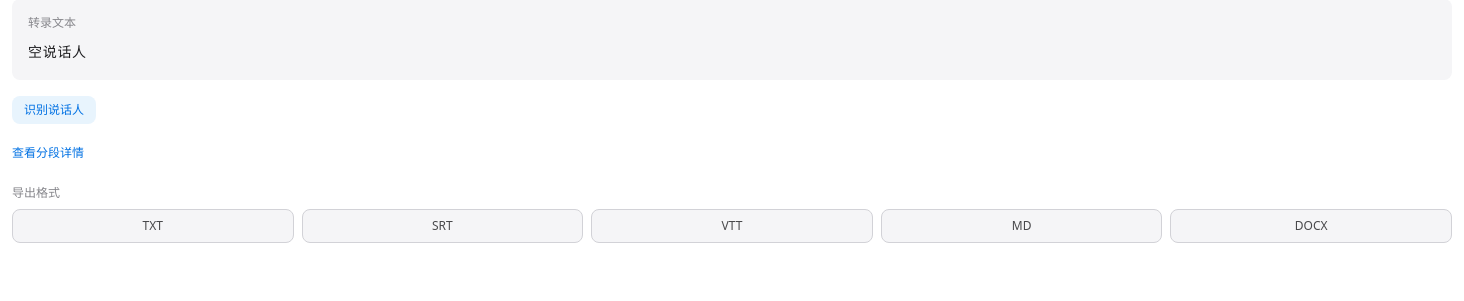
Test: TranscriptionResult — branch push › omits the speaker label when speaker is an empty string
Click the button "查看分段详情" at {"x": 48, "y": 153}, box [12,145,84,161]
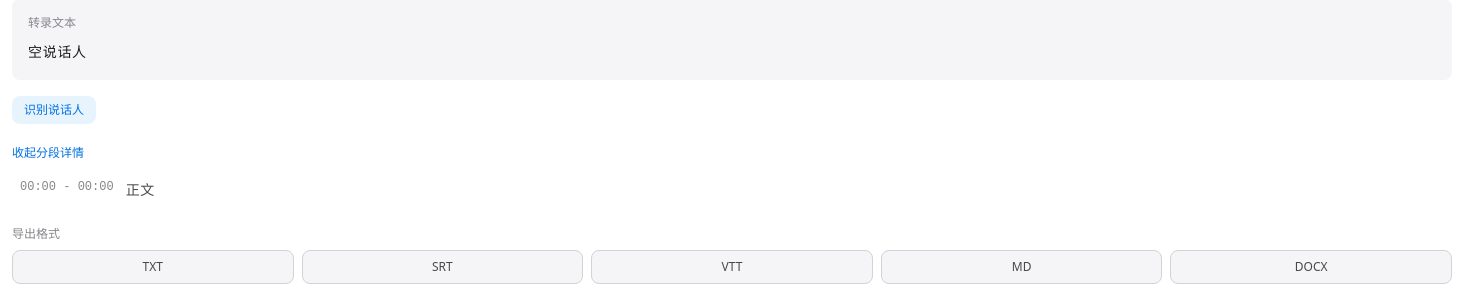
Expected: the text "正文" is shown, [126,177,155,202]
